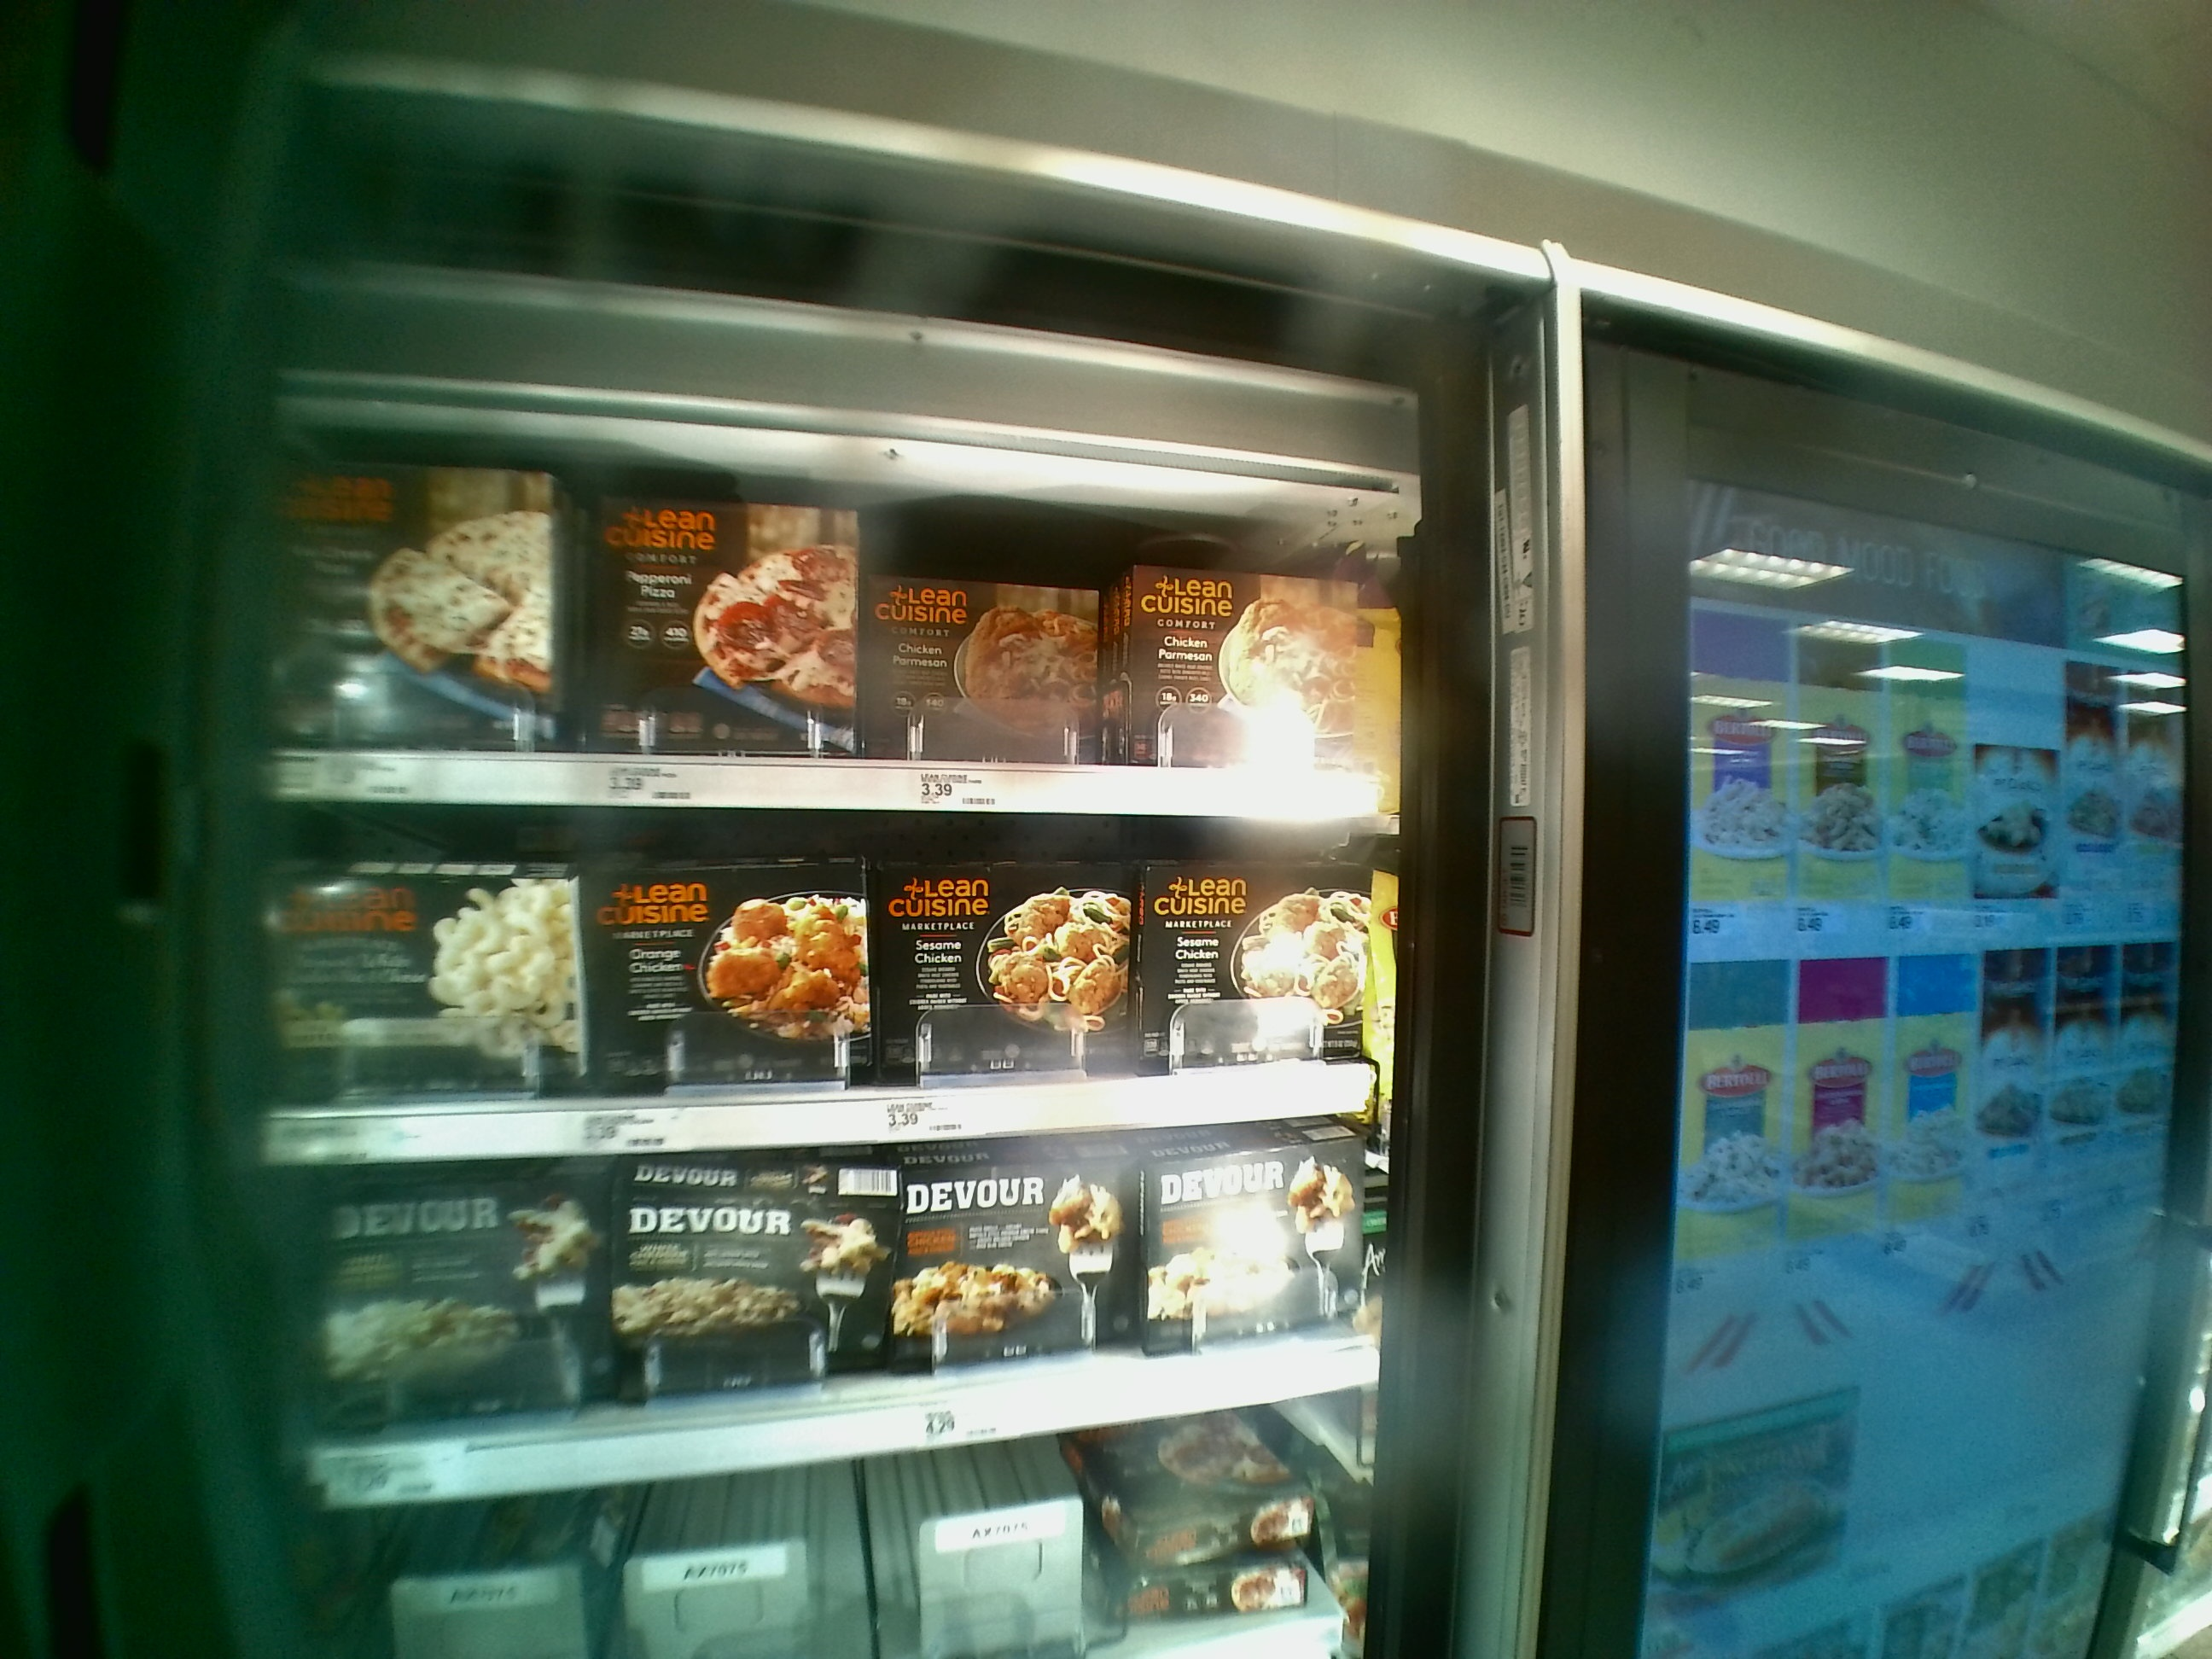shelf: (258, 376, 1383, 817), (263, 1110, 1379, 1513), (261, 802, 1383, 1168)
